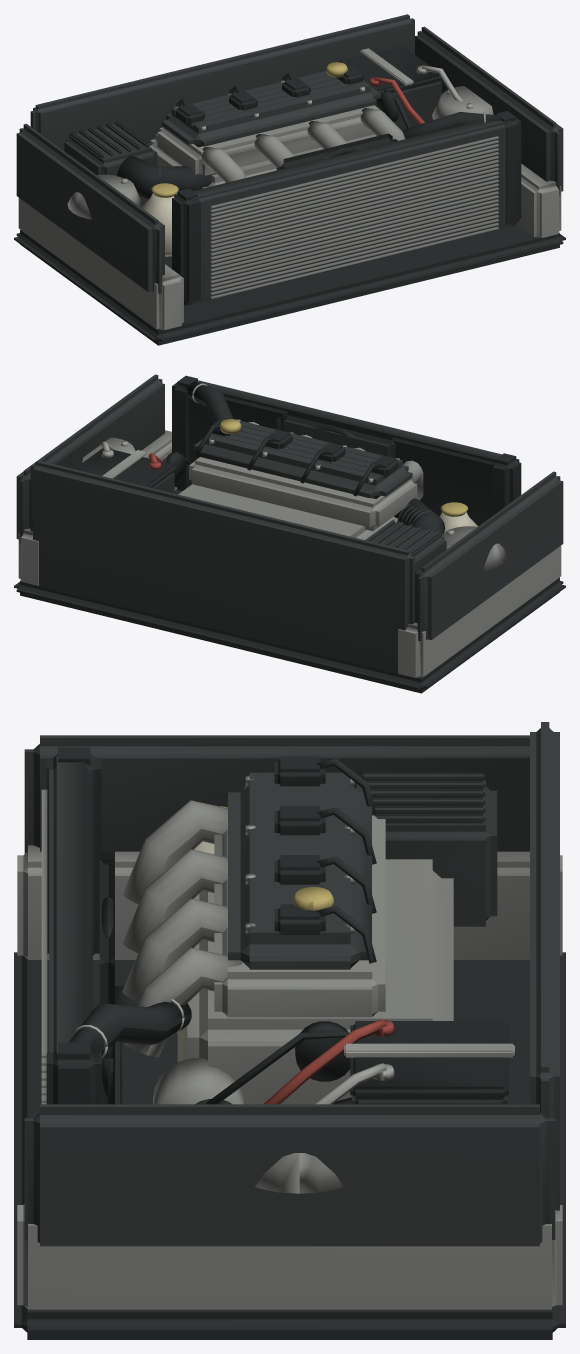
Rendered from engine-transverse.glb.
3 renders of one model, top to bottom at view 1: azimuth 30°, elevation 25°; view 2: azimuth 150°, elevation 25°; view 3: azimuth 270°, elevation 25°, orthographic. The views are drawn at different scales.
Visible parts, largest first — view 1: Frame; view 2: Frame; view 3: Frame.
Part boxes in pixels (box(x1,y1,x2,y2)): Frame: box(14, 14, 565, 345); Frame: box(14, 374, 565, 693); Frame: box(14, 722, 565, 1339).
Size of the model in its own units: 1.49 by 0.537 by 0.87.
